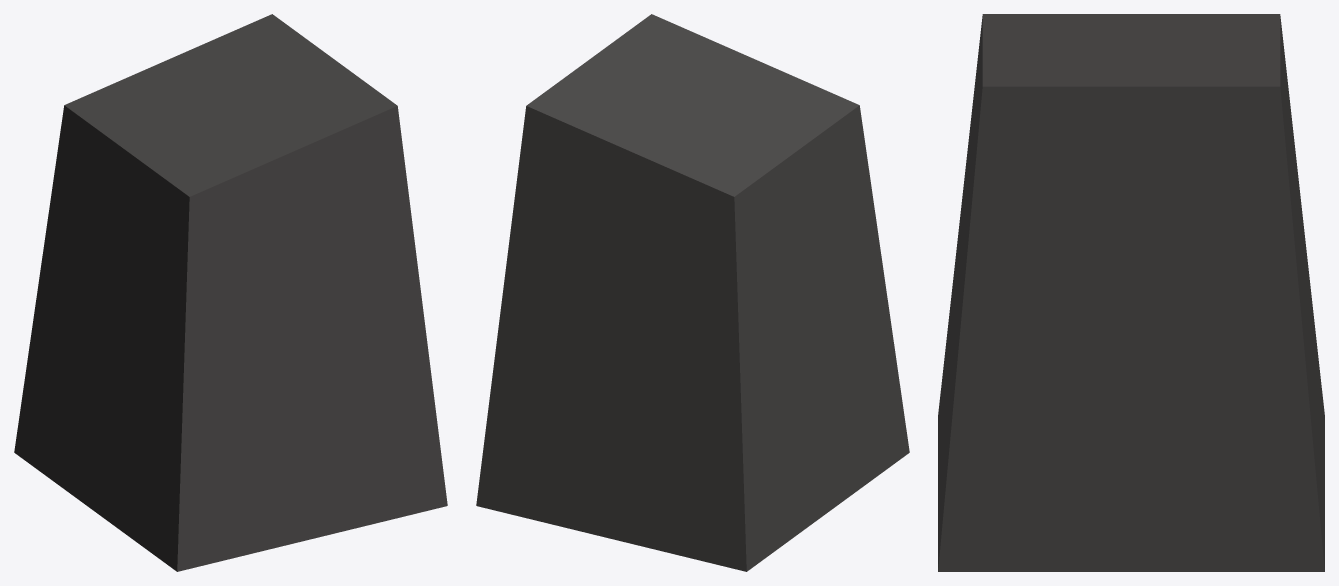
The picture shows the model from 3 angles, left to right: view 1: azimuth 30°, elevation 25°; view 2: azimuth 150°, elevation 25°; view 3: azimuth 270°, elevation 25°; orthographic projection. The views are drawn at different scales.
Parts seen in each view (by area): view 1: Box001; view 2: Box001; view 3: Box001.
Part boxes in pixels (bbox=[...]): Box001: bbox=[14, 14, 447, 571]; Box001: bbox=[476, 14, 909, 571]; Box001: bbox=[938, 14, 1324, 571].
Bounding box in the file's own units: 10.85 × 15.1 × 11.32.
